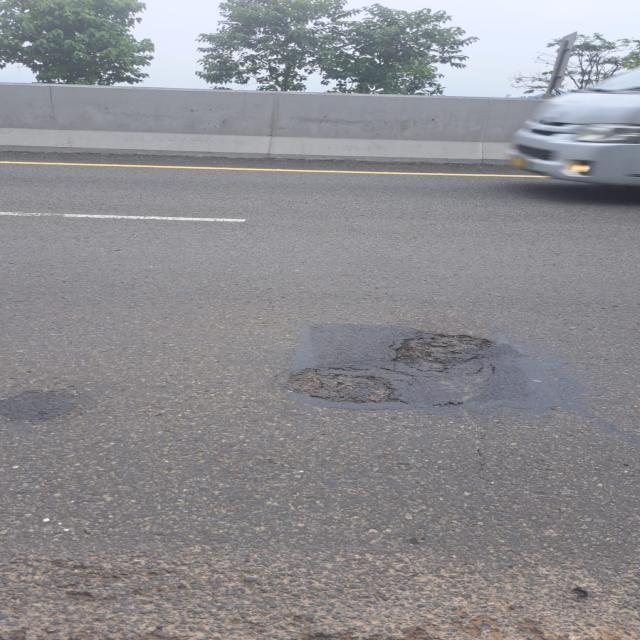Buraco: (281, 365, 402, 407), (388, 329, 497, 375)
